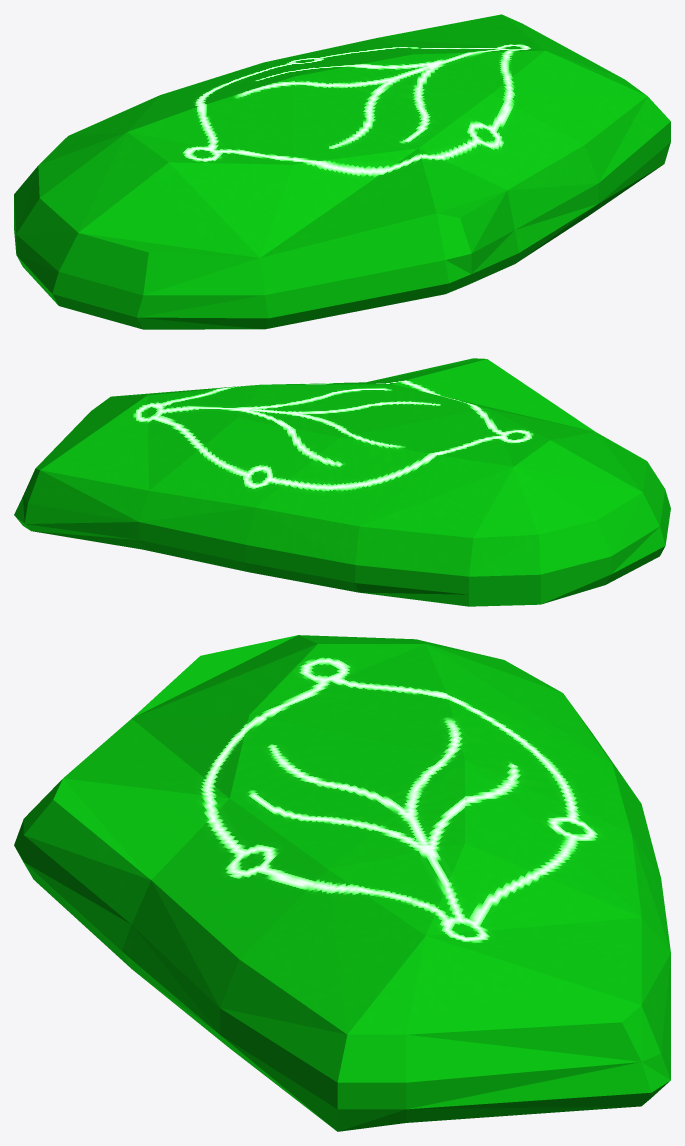
Rendered from shell_03.glb.
3 renders of one model, top to bottom at view 1: azimuth 30°, elevation 25°; view 2: azimuth 150°, elevation 25°; view 3: azimuth 270°, elevation 25°, orthographic. The views are drawn at different scales.
Visible parts, largest first — view 1: Mesh1.046; view 2: Mesh1.046; view 3: Mesh1.046.
Boxes of the visible parts, box(x1,y1,x2,y2) form: Mesh1.046: box(14, 14, 670, 329); Mesh1.046: box(14, 358, 670, 606); Mesh1.046: box(14, 635, 670, 1131).
Bounding box in the file's own units: 0.3796 × 0.0744 × 0.2622.
